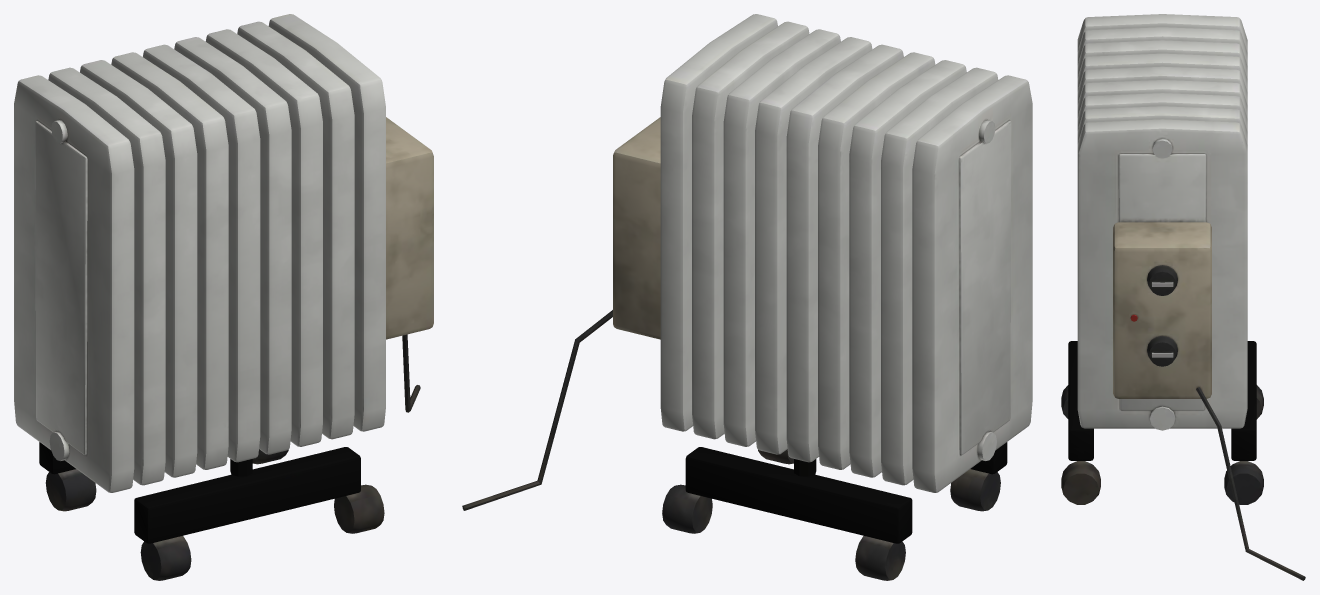
The model's file is aquecedor.glb.
The picture shows the model from 3 angles, left to right: view 1: azimuth 30°, elevation 25°; view 2: azimuth 150°, elevation 25°; view 3: azimuth 270°, elevation 25°; orthographic projection. The views are drawn at different scales.
Parts seen in each view (by area): view 1: aquecedor; view 2: aquecedor; view 3: aquecedor.
Part boxes in pixels (bbox=[...]): aquecedor: bbox=[14, 14, 433, 580]; aquecedor: bbox=[462, 14, 1032, 580]; aquecedor: bbox=[1061, 14, 1305, 580].
Bounding box in the file's own units: 0.6227 × 0.5993 × 0.3451.
1 material, 1 textured.
